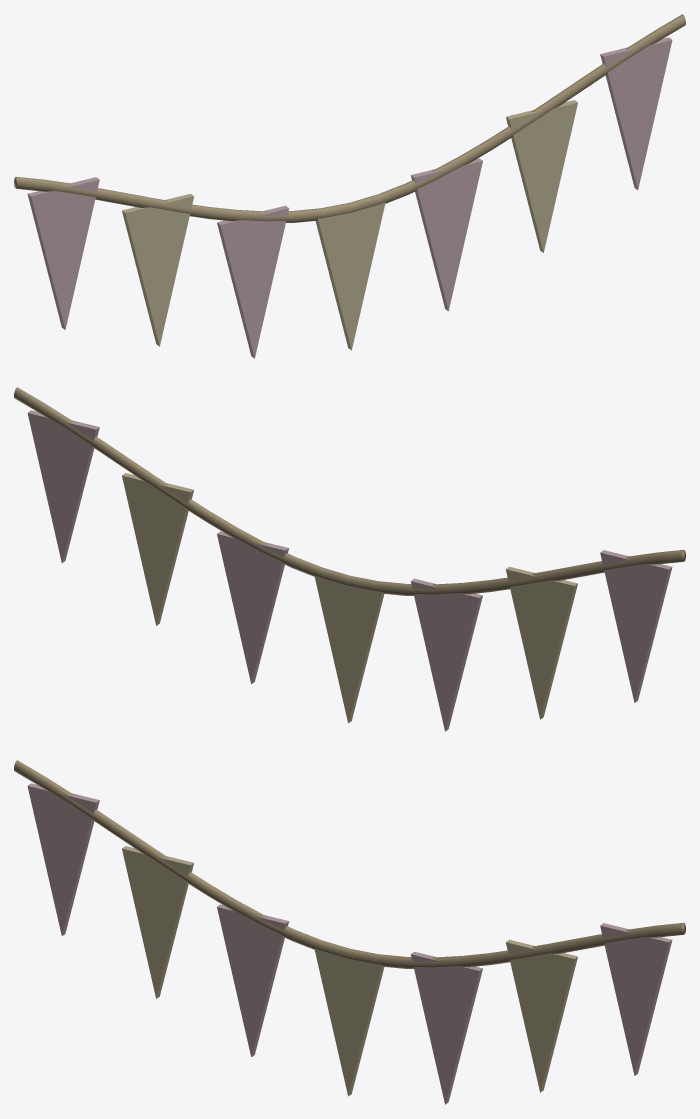
The model's file is bunting.glb.
3 views of the same model, one above another, from view 1: azimuth 30°, elevation 25°; view 2: azimuth 150°, elevation 25°; view 3: azimuth 330°, elevation 25° (orthographic).
Visible parts, largest first — view 1: continuous-bunting-cord, bound-flag-1, bound-flag-0, bound-flag-5, bound-flag-6, bound-flag-2, bound-flag-4, bound-flag-3; view 2: continuous-bunting-cord, bound-flag-1, bound-flag-0, bound-flag-5, bound-flag-6, bound-flag-2, bound-flag-4, bound-flag-3; view 3: continuous-bunting-cord, bound-flag-5, bound-flag-6, bound-flag-1, bound-flag-0, bound-flag-4, bound-flag-2, bound-flag-3.
Boxes of the visible parts, <box> form: continuous-bunting-cord: <box>14,14,685,222</box>; bound-flag-1: <box>122,193,193,346</box>; bound-flag-0: <box>27,177,99,329</box>; bound-flag-5: <box>506,100,577,252</box>; bound-flag-6: <box>600,37,672,189</box>; bound-flag-2: <box>217,205,289,358</box>; bound-flag-4: <box>410,158,482,310</box>; bound-flag-3: <box>315,202,385,350</box>; continuous-bunting-cord: <box>14,387,685,595</box>; bound-flag-1: <box>506,566,577,719</box>; bound-flag-0: <box>600,550,672,702</box>; bound-flag-5: <box>122,473,193,625</box>; bound-flag-6: <box>27,410,99,562</box>; bound-flag-2: <box>410,578,482,731</box>; bound-flag-4: <box>217,531,289,683</box>; bound-flag-3: <box>314,575,384,723</box>; continuous-bunting-cord: <box>14,760,685,968</box>; bound-flag-5: <box>506,939,577,1092</box>; bound-flag-6: <box>600,923,672,1075</box>; bound-flag-1: <box>122,846,193,998</box>; bound-flag-0: <box>27,783,99,935</box>; bound-flag-4: <box>410,951,482,1104</box>; bound-flag-2: <box>217,904,289,1056</box>; bound-flag-3: <box>314,948,384,1096</box>.
Bounding box in the file's own units: 1.3 × 0.4714 × 0.014.
